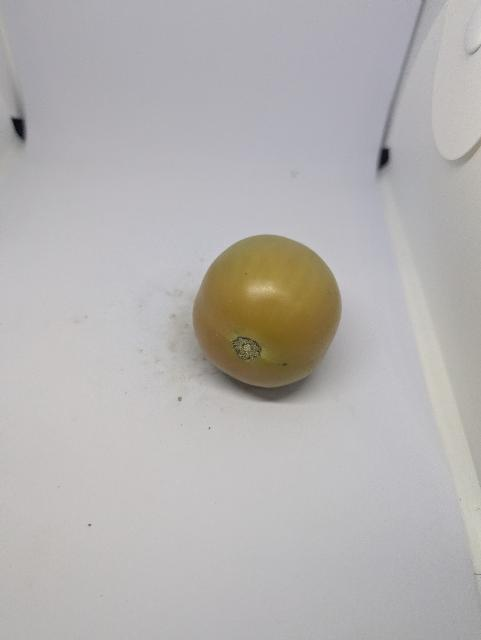breaker: (193, 235, 342, 387)
